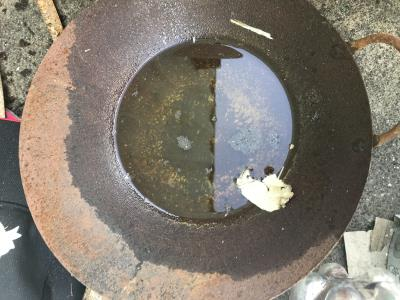bowl: (16, 1, 374, 297)
